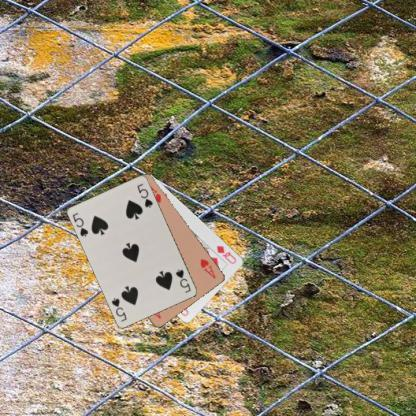5s: (70, 210, 89, 238), (174, 266, 192, 294)
Ah: (198, 256, 217, 280)
Qd: (214, 243, 237, 265)
